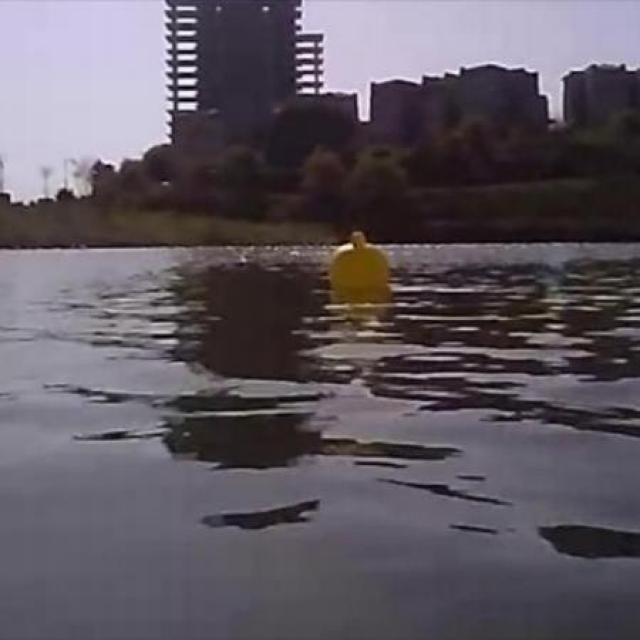buoy: (328, 229, 392, 296)
